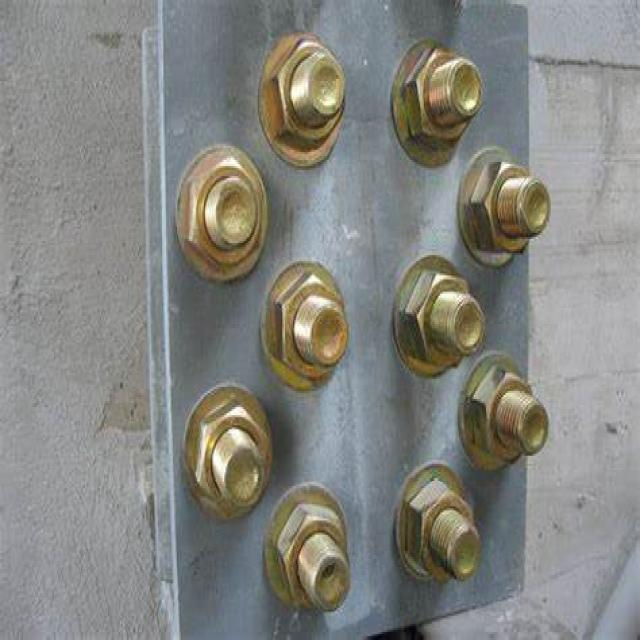bolt nut: (189, 401, 270, 518), (185, 152, 262, 275), (274, 267, 348, 387), (271, 34, 346, 152), (275, 500, 350, 616), (405, 472, 478, 589), (402, 44, 476, 148), (404, 263, 471, 371), (470, 362, 537, 466), (470, 156, 535, 255)
